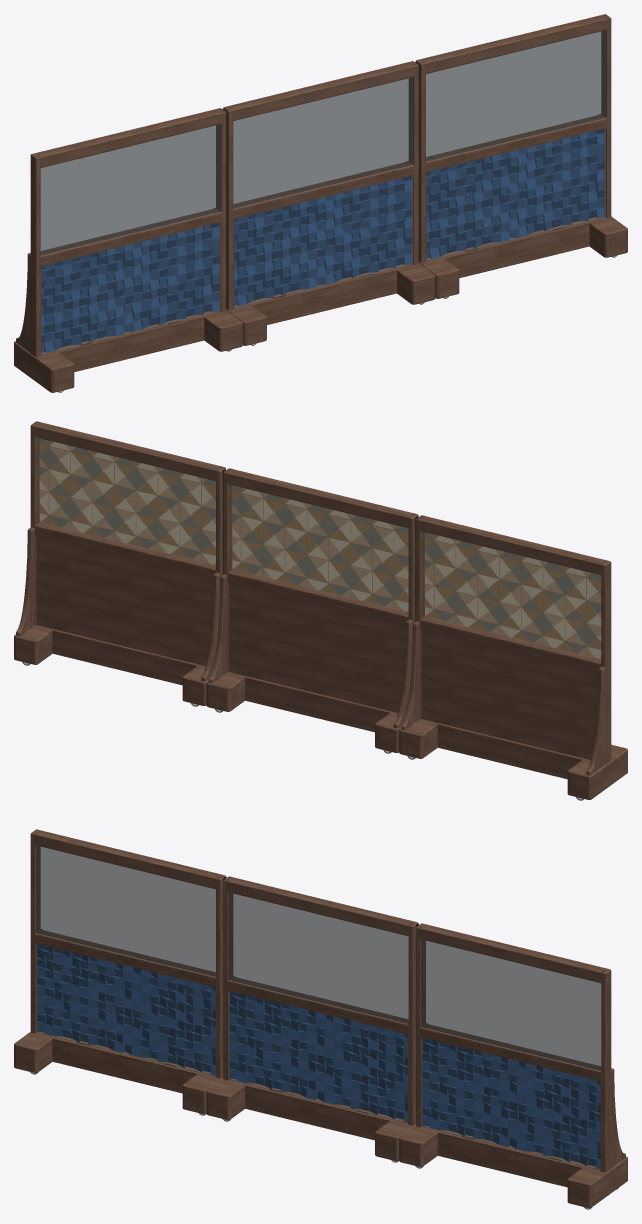
The model's file is v10-linen-marquetry-mocha-three.glb.
3 renders of one model, top to bottom at view 1: azimuth 30°, elevation 25°; view 2: azimuth 150°, elevation 25°; view 3: azimuth 330°, elevation 25°, orthographic.
Visible parts, largest first — view 1: Left Wood, Left Linen Marquetry reverse, Linen Marquetry reverse, Right Linen Marquetry reverse, Cover glass, Right Navy Everwood relief, Left Navy Everwood relief, Navy Everwood relief, Right Cover glass, Left Cover glass, Right Wood, Wood; view 2: Left Wood, Wood, Right Wood, Linen Marquetry print, Right Linen Marquetry print, Left Linen Marquetry print; view 3: Right Wood, Linen Marquetry reverse, Right Linen Marquetry reverse, Left Linen Marquetry reverse, Cover glass, Left Navy Everwood relief, Right Navy Everwood relief, Navy Everwood relief, Right Cover glass, Left Cover glass, Left Wood, Wood.
Boxes of the visible parts, x1,y1,x2,y2 form: Left Wood: (14,108,242,392); Left Linen Marquetry reverse: (40,124,220,255); Linen Marquetry reverse: (233,77,413,208); Right Linen Marquetry reverse: (426,30,605,161); Cover glass: (234,176,412,306); Right Navy Everwood relief: (426,128,604,258); Left Navy Everwood relief: (41,223,219,352); Navy Everwood relief: (234,175,412,305); Right Cover glass: (427,129,604,259); Left Cover glass: (42,223,219,353); Right Wood: (416,14,627,298); Wood: (223,61,435,345); Left Wood: (399,515,627,799); Wood: (206,468,418,752); Right Wood: (14,421,225,705); Linen Marquetry print: (232,485,408,611); Right Linen Marquetry print: (39,438,215,564); Left Linen Marquetry print: (425,532,601,658); Right Wood: (399,923,627,1207); Linen Marquetry reverse: (228,892,408,1023); Right Linen Marquetry reverse: (421,940,601,1070); Left Linen Marquetry reverse: (36,846,215,976); Cover glass: (229,991,407,1122); Left Navy Everwood relief: (37,944,215,1075); Right Navy Everwood relief: (422,1038,600,1169); Navy Everwood relief: (229,991,407,1122); Right Cover glass: (422,1038,599,1169); Left Cover glass: (37,944,214,1075); Left Wood: (14,829,225,1114); Wood: (206,876,418,1161).
Size of the model in its own units: 5.03 by 1.91 by 0.5842.
Materials: 10 (2 with a texture image).
